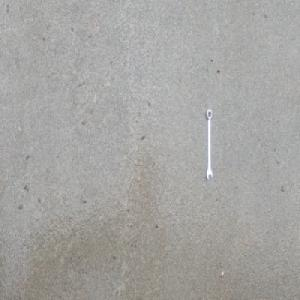Wrench: (205, 108, 213, 182)
